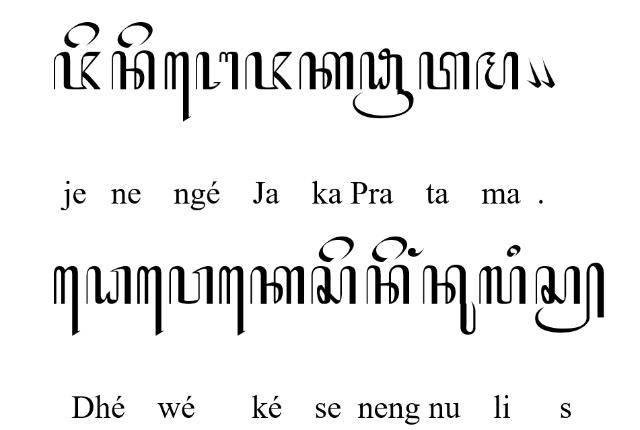-s: (534, 262, 606, 334)
Pr: (352, 47, 413, 119)
dh: (86, 265, 130, 304)
e: (62, 20, 100, 48), (117, 20, 153, 48), (370, 236, 408, 262), (318, 236, 354, 262)
e1: (53, 266, 81, 338), (136, 266, 164, 338), (218, 265, 246, 337), (163, 51, 190, 123)
i: (506, 244, 520, 258)
j: (52, 51, 102, 92), (244, 51, 294, 91)
k: (250, 265, 306, 305), (298, 52, 354, 90)
kom: (540, 56, 556, 90), (526, 57, 542, 89)
l: (478, 266, 526, 306)
m: (474, 51, 520, 92)
n: (366, 264, 410, 306), (110, 50, 156, 90)
ng: (407, 246, 425, 258)
nga: (194, 51, 240, 91)
nu: (422, 265, 476, 336)
s: (311, 266, 357, 306)
t: (418, 51, 470, 91)
w: (168, 264, 214, 306)
